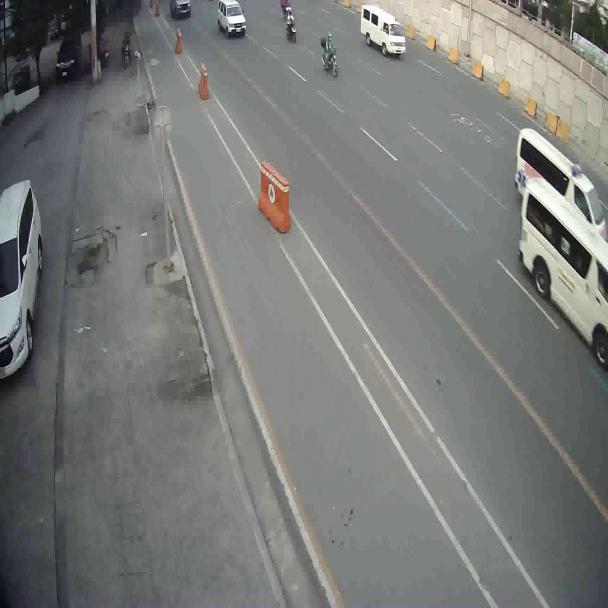motorcyclist: (320, 34, 337, 78)
vehicle: (514, 166, 608, 372), (514, 122, 608, 255), (1, 171, 42, 390), (362, 2, 410, 58), (217, 1, 246, 38), (168, 1, 192, 20)
